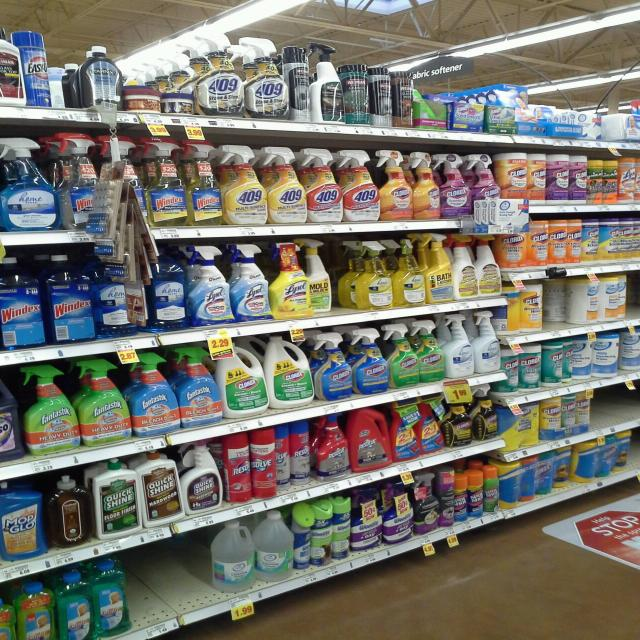void: (142, 532, 206, 628), (597, 382, 638, 430)
